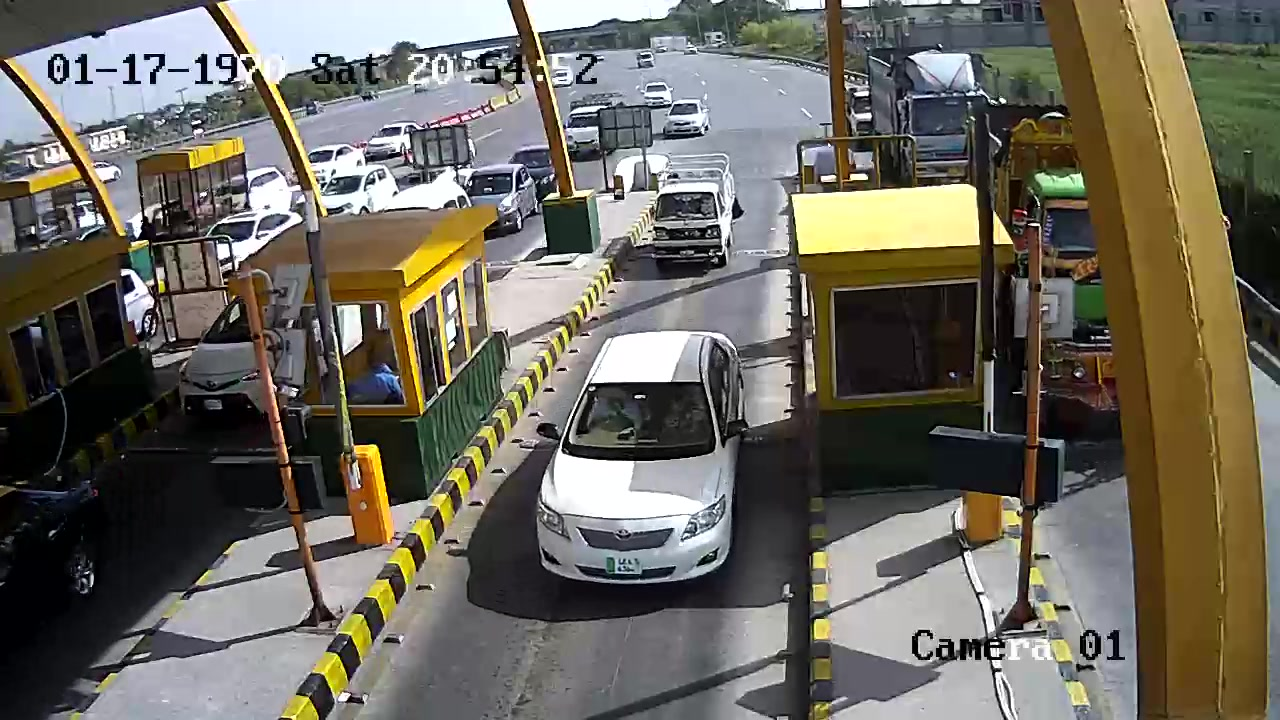F1: (526, 324, 757, 593)
